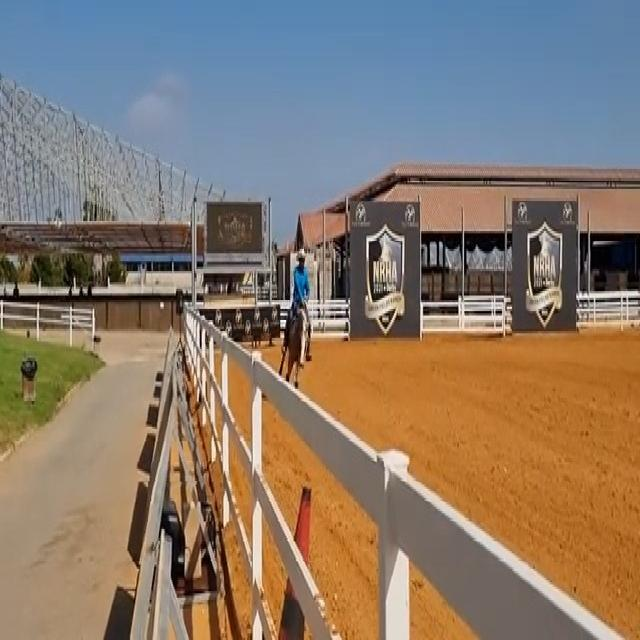horse: (277, 298, 311, 391)
